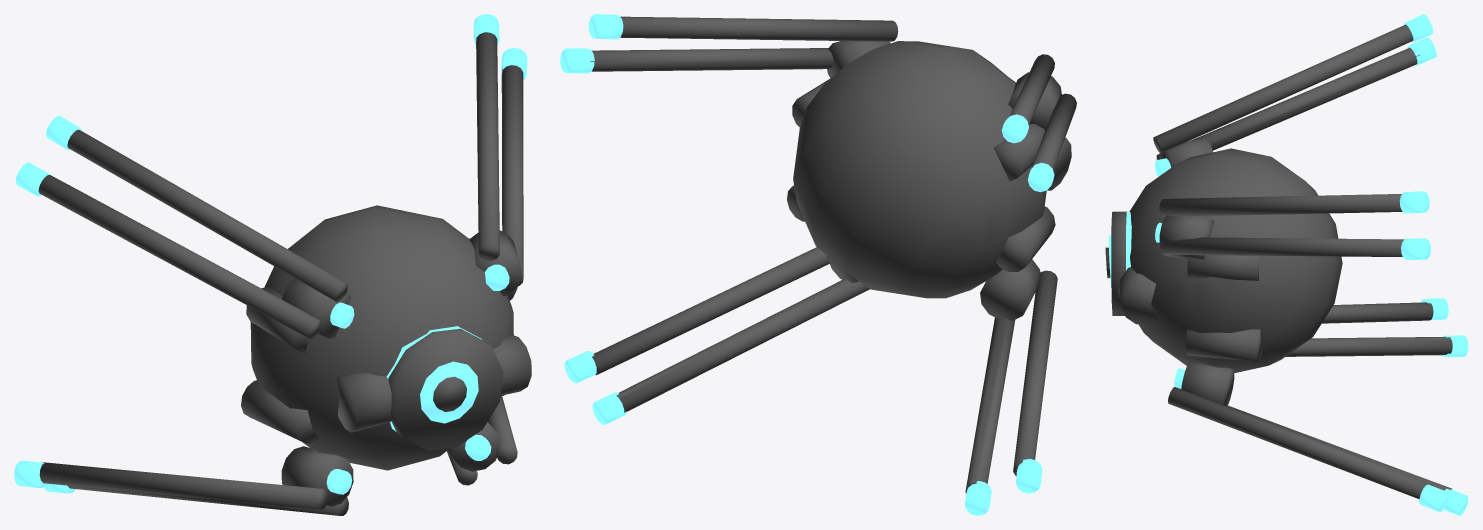
File: Mob 3.fbx
3 renders of one model, left to right at view 1: azimuth 30°, elevation 25°; view 2: azimuth 150°, elevation 25°; view 3: azimuth 270°, elevation 25°, orthographic. The views are drawn at different scales.
Parts seen in each view (by area): view 1: s.1611754593; view 2: s.1611754593; view 3: s.1611754593.
Boxes of the visible parts, box(x1,y1,x2,y2) form: s.1611754593: box(14, 14, 531, 515); s.1611754593: box(560, 14, 1076, 515); s.1611754593: box(1105, 14, 1468, 515).
Bounding box in the file's own units: 141 × 105 × 103.
